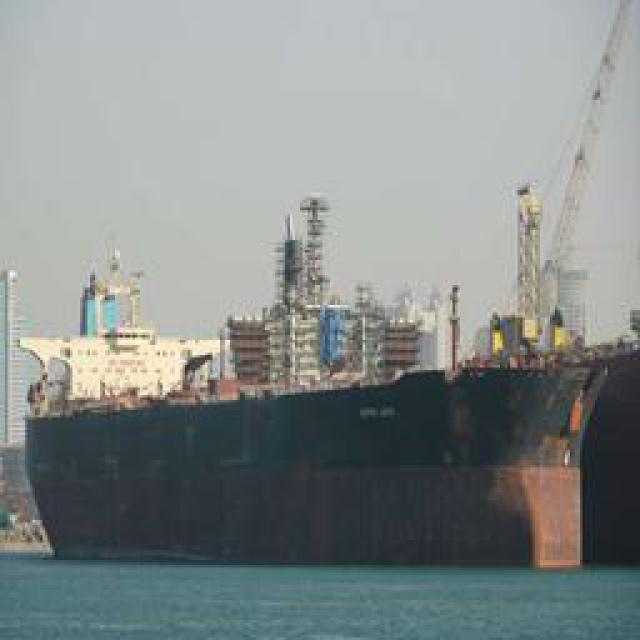Ship: (13, 180, 611, 573)
